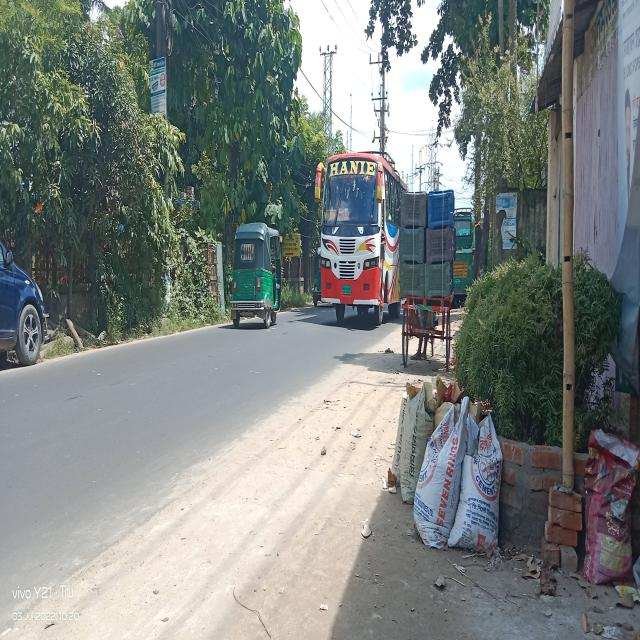bus: (312, 145, 406, 348)
